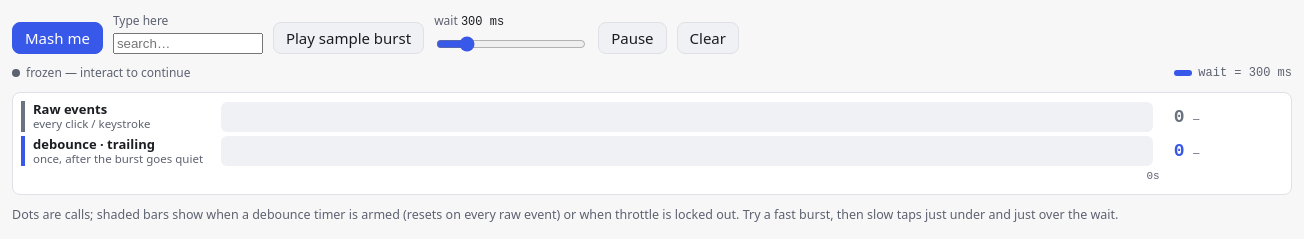
Test: TimelineVisualizer › typing feeds the timeline
This screenshot has width=1304, height=239.
In the field labelled "Type here": (188, 43) [113,33,263,54], type "a"
Wait 50 ms
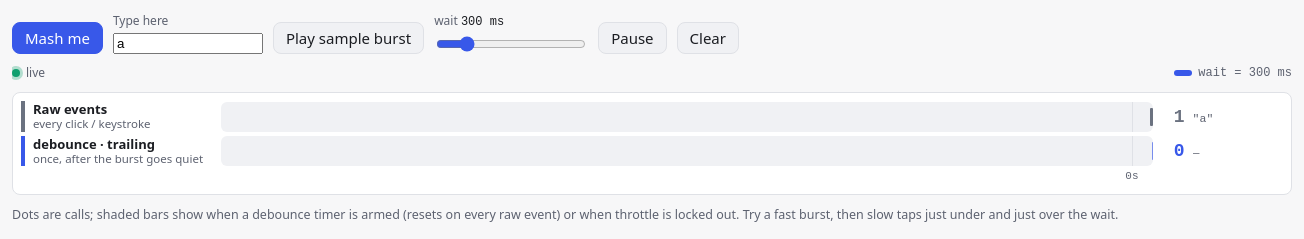
Replace the text in the field labelled "Type here" with "ab": (188, 43) [113,33,263,54]
Wait 50 ms
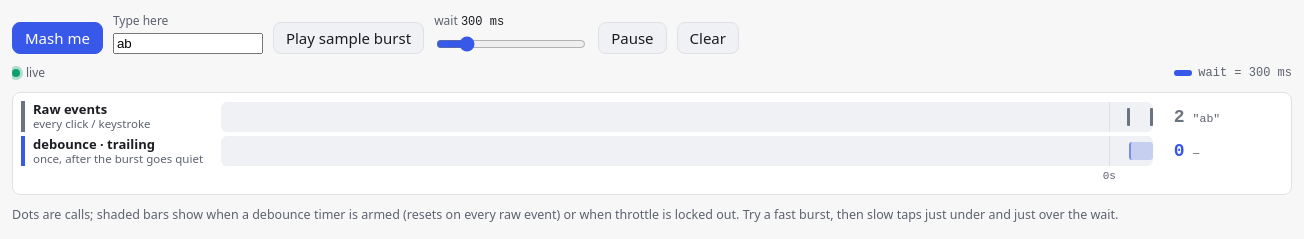
Replace the text in the field labelled "Type here" with "abc": (188, 43) [113,33,263,54]
Wait 1050 ms
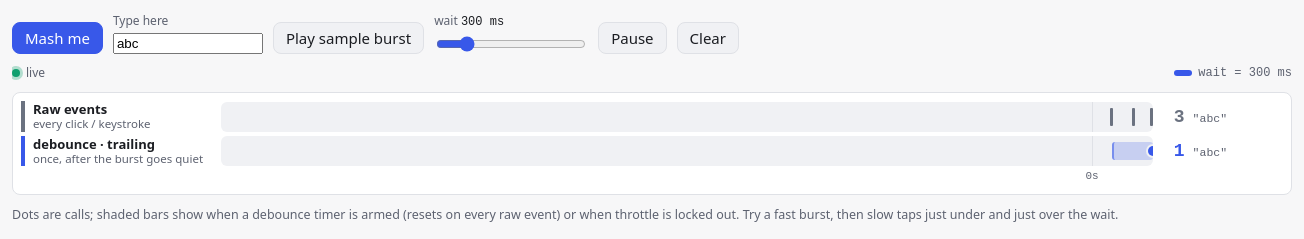
Expected: the text "\"abc\"" in the row of "every click / keystroke" is shown, [1193,112,1227,124]
